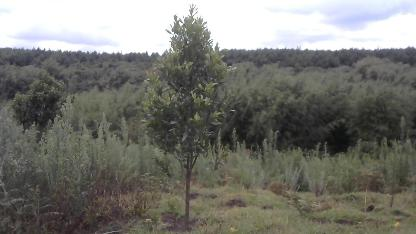tree: (139, 0, 235, 222)
